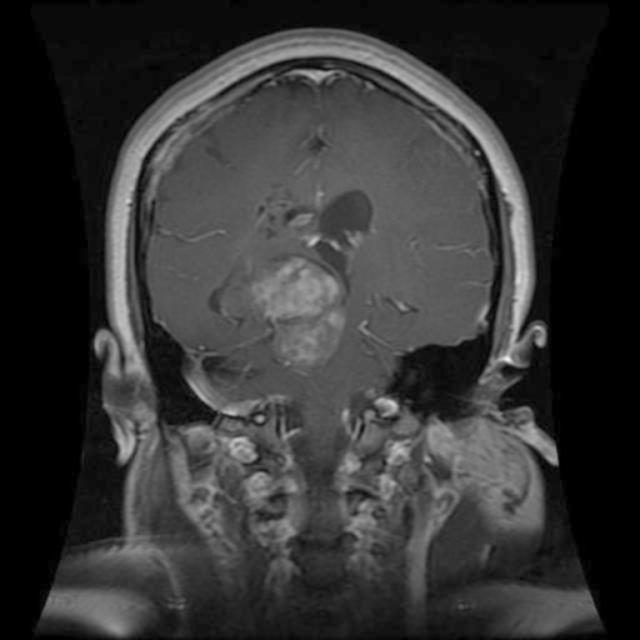pituitary tumor: (260, 251, 350, 365)
